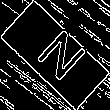N_SW: (24, 23, 86, 87)
